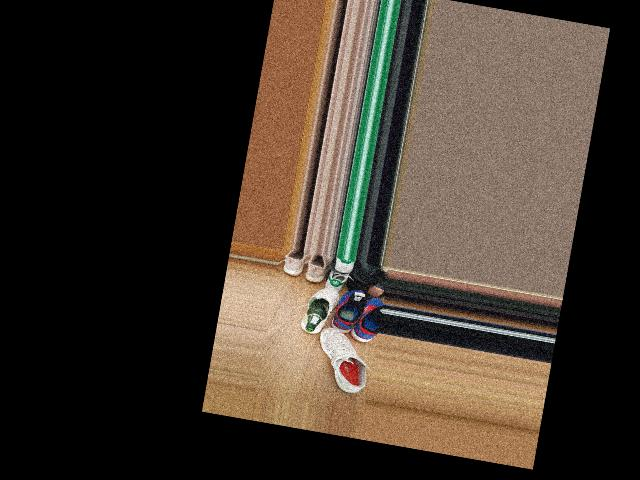beer: (303, 296, 329, 334)
